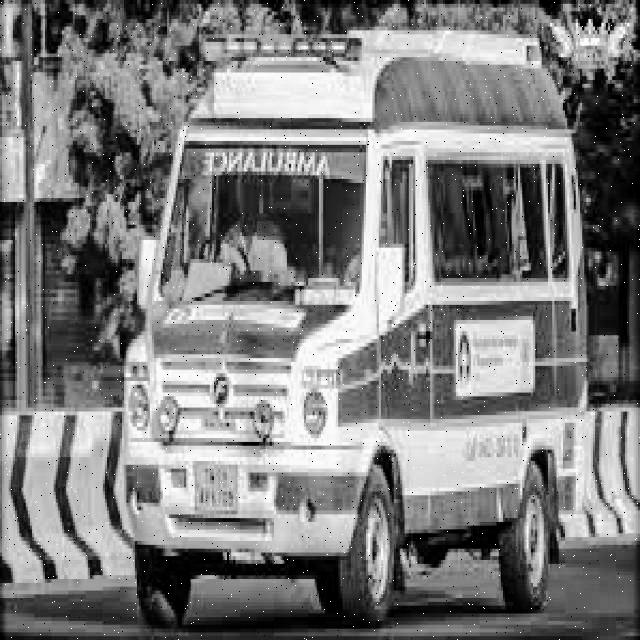LCV: (124, 33, 409, 547)
